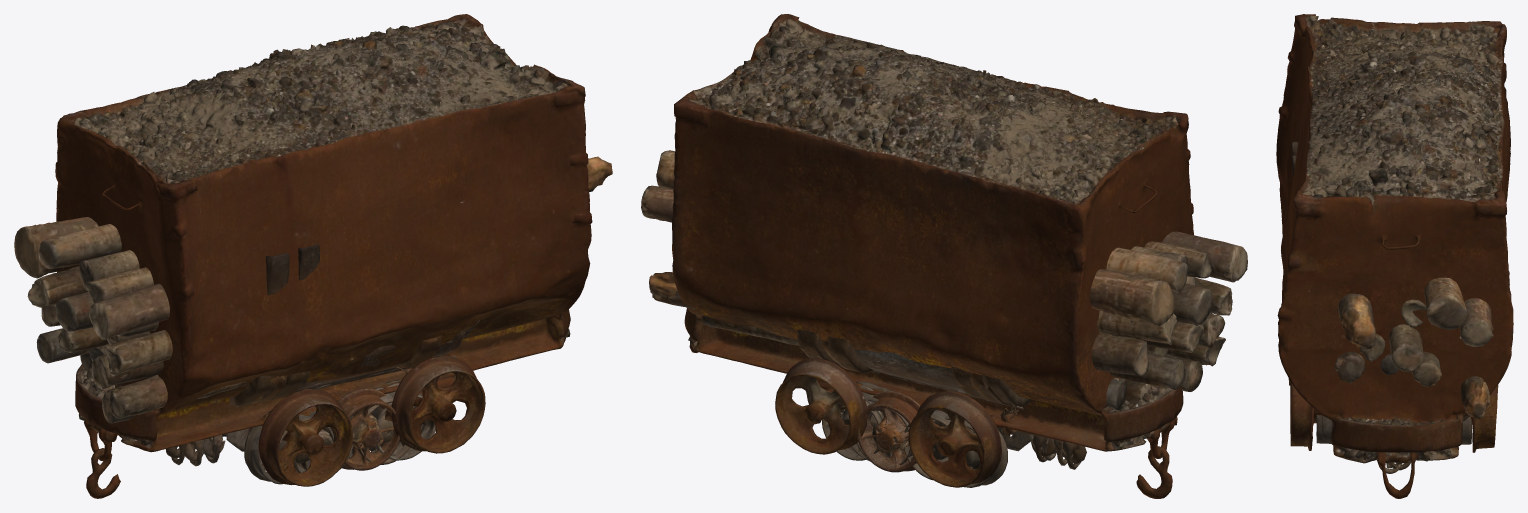
The model's file is MineAlt_Loren.glb.
3 renders of one model, left to right at view 1: azimuth 30°, elevation 25°; view 2: azimuth 150°, elevation 25°; view 3: azimuth 270°, elevation 25°, orthographic. The views are drawn at different scales.
Visible parts, largest first — view 1: lore_kohle, wagen_holz, lore_leer, radsatz, lore_saecke, wagen_leer; view 2: lore_kohle, wagen_holz, radsatz, lore_leer, wagen_leer, lore_saecke; view 3: lore_kohle, wagen_holz, wagen_leer, lore_leer.
Boxes of the visible parts, x1=… form: lore_kohle: x1=55, y1=14, x2=592, y2=498; wagen_holz: x1=14, y1=156, x2=612, y2=484; lore_leer: x1=202, y1=201, x2=479, y2=472; radsatz: x1=329, y1=388, x2=399, y2=470; lore_saecke: x1=184, y1=335, x2=442, y2=472; wagen_leer: x1=211, y1=243, x2=422, y2=472; lore_kohle: x1=672, y1=14, x2=1193, y2=498; wagen_holz: x1=641, y1=150, x2=1247, y2=487; radsatz: x1=857, y1=391, x2=920, y2=472; lore_leer: x1=828, y1=349, x2=1056, y2=460; wagen_leer: x1=797, y1=329, x2=1055, y2=480; lore_saecke: x1=822, y1=340, x2=1072, y2=469; lore_kohle: x1=1276, y1=14, x2=1513, y2=498; wagen_holz: x1=1291, y1=141, x2=1493, y2=428; wagen_leer: x1=1291, y1=155, x2=1472, y2=470; lore_leer: x1=1315, y1=415, x2=1401, y2=473.
Size of the model in its own units: 2.3 by 1.56 by 0.9496.
6 materials, 6 textured.
